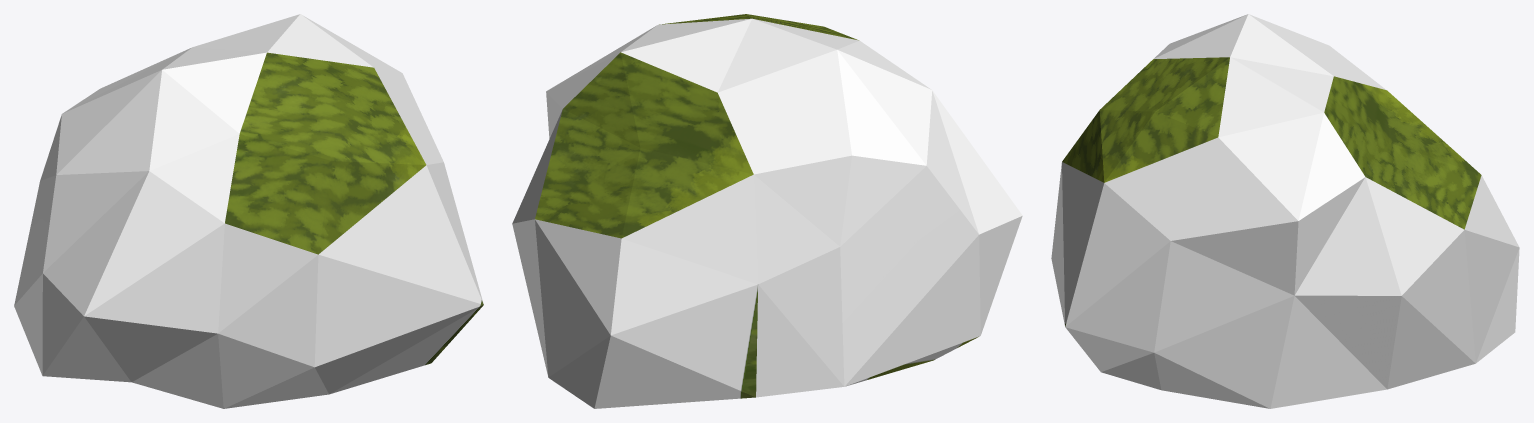
File: Rock 2.fbx
3 renders of one model, left to right at view 1: azimuth 30°, elevation 25°; view 2: azimuth 150°, elevation 25°; view 3: azimuth 270°, elevation 25°, orthographic. The views are drawn at different scales.
Parts seen in each view (by area): view 1: Rock_2; view 2: Rock_2; view 3: Rock_2.
Part boxes in pixels (box(x1,y1,x2,y2)): Rock_2: box(14, 14, 483, 408); Rock_2: box(512, 14, 1022, 408); Rock_2: box(1051, 14, 1519, 408).
Size of the model in its own units: 1514 by 1031 by 1608.
